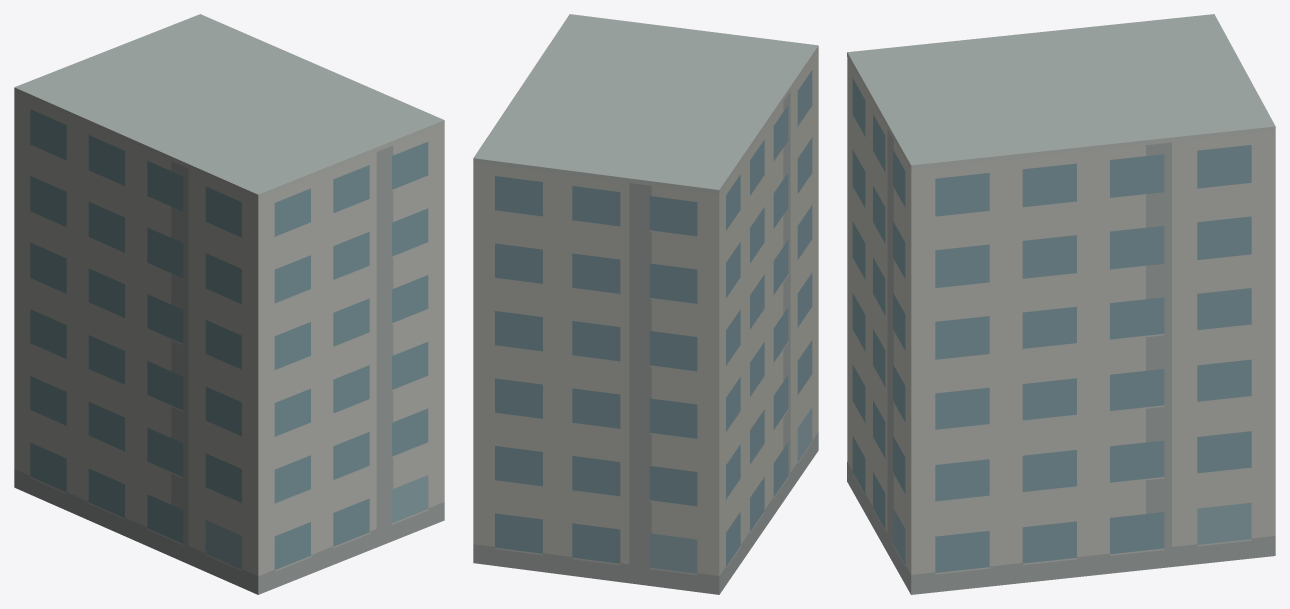
Rendered from survey-upis-32806578.glb.
3 views of the same model, side by side, from view 1: azimuth 30°, elevation 25°; view 2: azimuth 150°, elevation 25°; view 3: azimuth 270°, elevation 25° (orthographic). The views are drawn at different scales.
Parts seen in each view (by area): view 1: survey-upis-32806578.tmp; view 2: survey-upis-32806578.tmp; view 3: survey-upis-32806578.tmp.
Boxes of the visible parts, x1=… form: survey-upis-32806578.tmp: x1=14, y1=14, x2=444, y2=594; survey-upis-32806578.tmp: x1=473, y1=14, x2=818, y2=594; survey-upis-32806578.tmp: x1=847, y1=14, x2=1275, y2=594.
Size of the model in its own units: 15.96 by 21.1 by 19.09.
